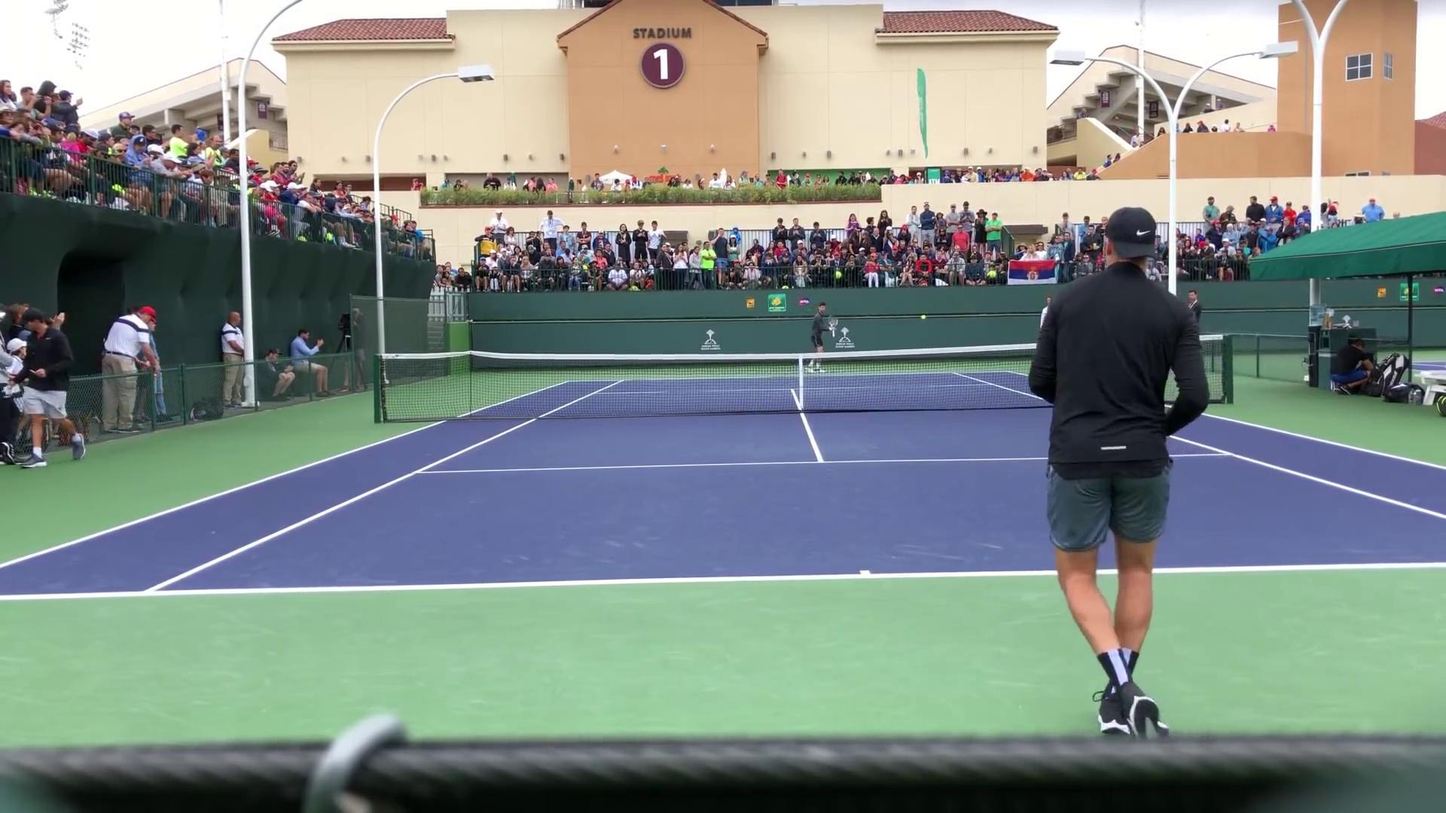ball: (920, 313, 927, 320)
